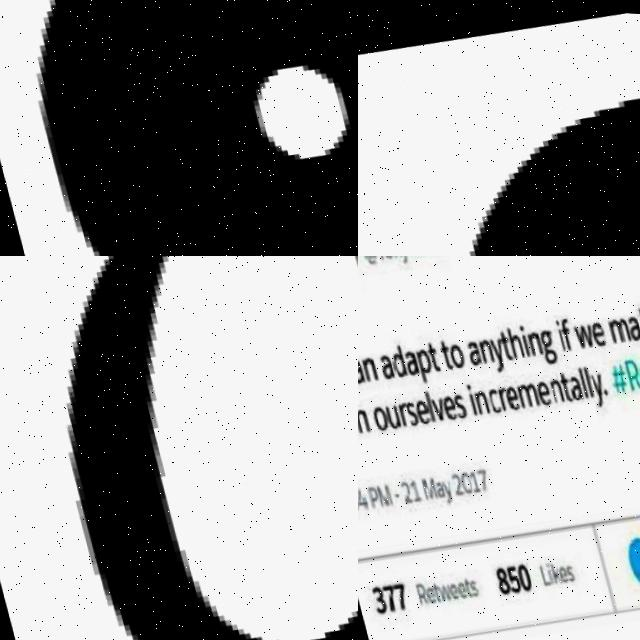0: (508, 559, 528, 590), (454, 467, 470, 494)
1: (462, 466, 476, 492), (405, 478, 417, 503)
2: (445, 468, 461, 495), (394, 480, 409, 502)
3: (366, 585, 382, 614)
4: (358, 484, 365, 511)
5: (499, 561, 517, 593)
7: (385, 581, 403, 610), (376, 583, 392, 612), (470, 464, 486, 491)
8: (486, 561, 508, 595)
C: (463, 95, 640, 256)
O: (57, 256, 358, 640), (0, 0, 358, 256)
